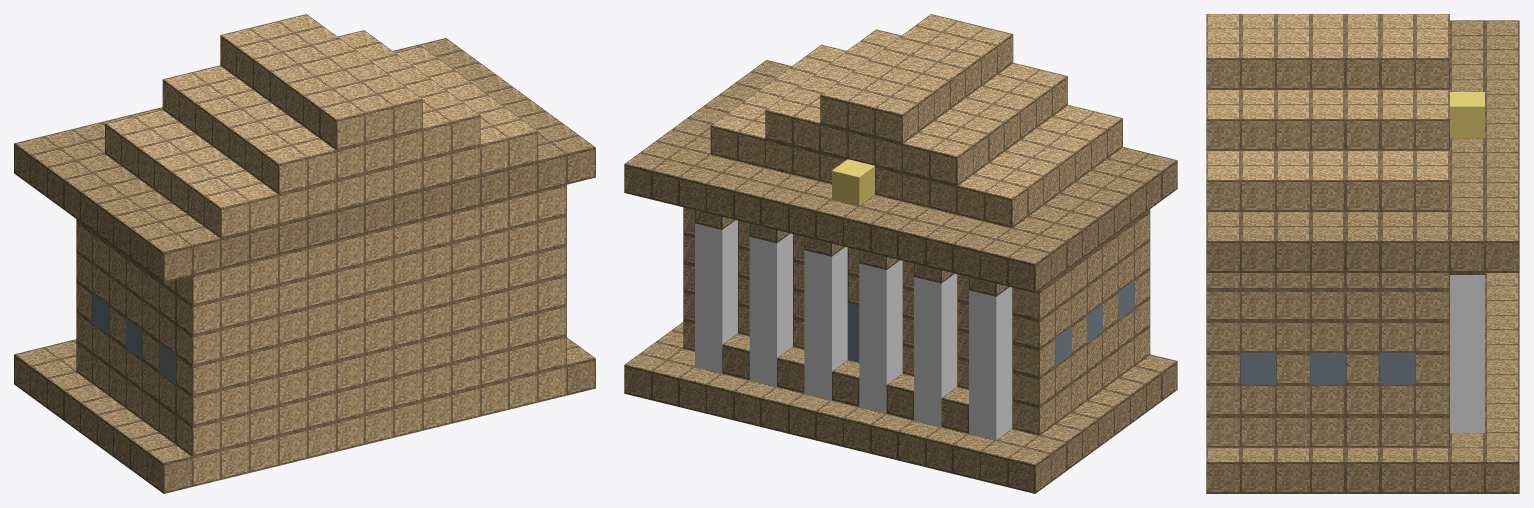
Rendered from kunstmuseum.glb.
3 renders of one model, left to right at view 1: azimuth 30°, elevation 25°; view 2: azimuth 150°, elevation 25°; view 3: azimuth 270°, elevation 25°, orthographic. The views are drawn at different scales.
Visible parts, largest first — view 1: kunstmuseum; view 2: kunstmuseum; view 3: kunstmuseum.
Part boxes in pixels (x1,y1,x2,y2): kunstmuseum: (14, 14, 595, 493); kunstmuseum: (624, 14, 1177, 493); kunstmuseum: (1206, 14, 1519, 493).
Bounding box in the file's own units: 15 × 11 × 9.
1 material, 1 textured.
